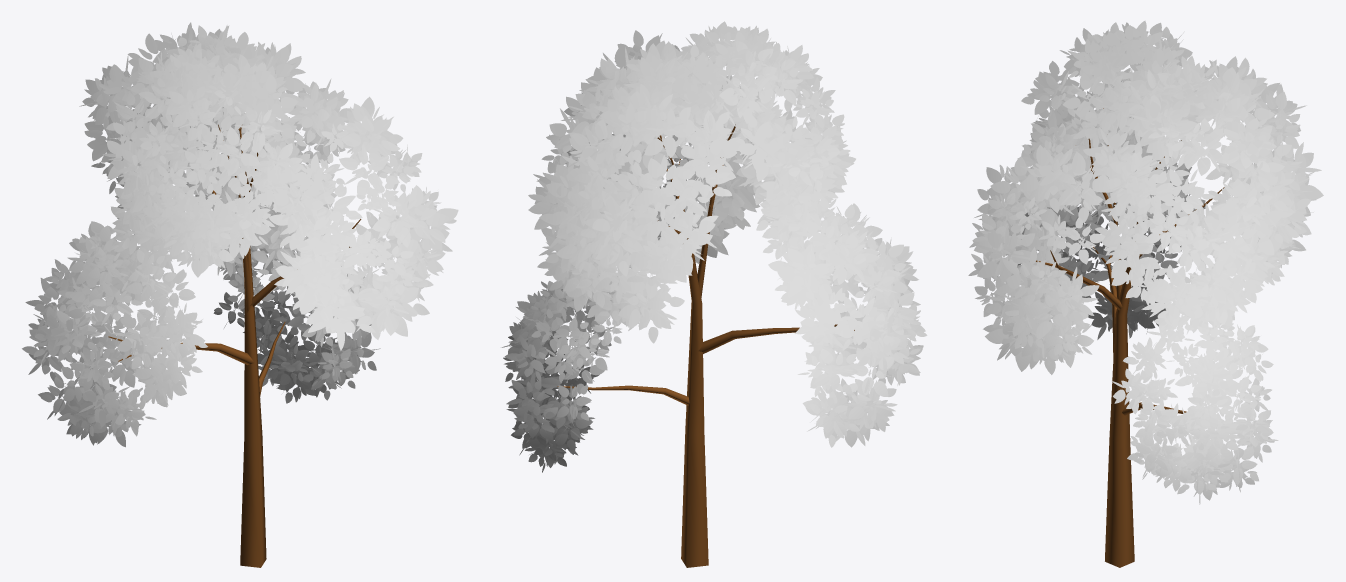
Rendered from SM_BirchTree.fbx.
The picture shows the model from 3 angles, left to right: view 1: azimuth 30°, elevation 25°; view 2: azimuth 150°, elevation 25°; view 3: azimuth 270°, elevation 25°; orthographic projection. The views are drawn at different scales.
Parts seen in each view (by area): view 1: Birch_Leaves, Birch_Tree; view 2: Birch_Leaves, Birch_Tree; view 3: Birch_Leaves, Birch_Tree.
Part boxes in pixels (x1,y1,x2,y2): Birch_Leaves: [22, 22, 458, 447]; Birch_Tree: [108, 124, 361, 567]; Birch_Leaves: [501, 21, 927, 472]; Birch_Tree: [557, 124, 854, 567]; Birch_Leaves: [968, 20, 1323, 504]; Birch_Tree: [1036, 108, 1224, 567].
Size of the model in its own units: 1.98 by 2.38 by 3.07.
